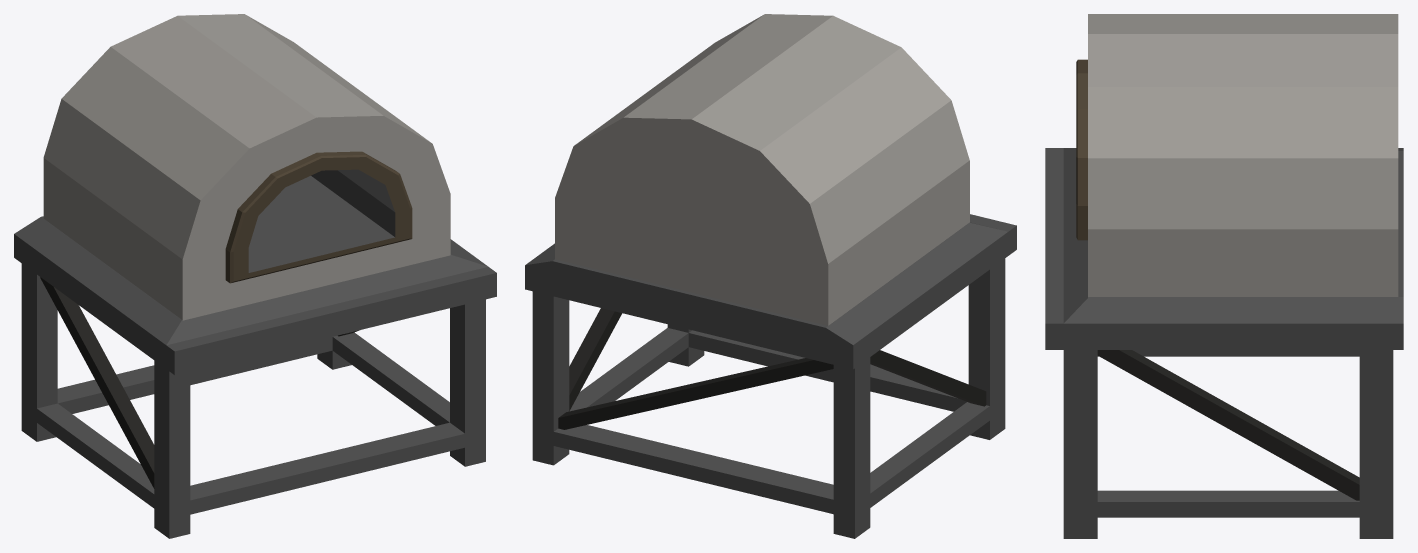
Rendered from Wood_fire_oven.fbx.
3 renders of one model, left to right at view 1: azimuth 30°, elevation 25°; view 2: azimuth 150°, elevation 25°; view 3: azimuth 270°, elevation 25°, orthographic. The views are drawn at different scales.
Visible parts, largest first — view 1: polySurface6; view 2: polySurface6; view 3: polySurface6.
Boxes of the visible parts, box(x1,y1,x2,y2) form: polySurface6: box(14, 14, 496, 538); polySurface6: box(525, 14, 1016, 538); polySurface6: box(1045, 14, 1403, 538).
Bounding box in the file's own units: 48.84 × 54.32 × 42.18.
